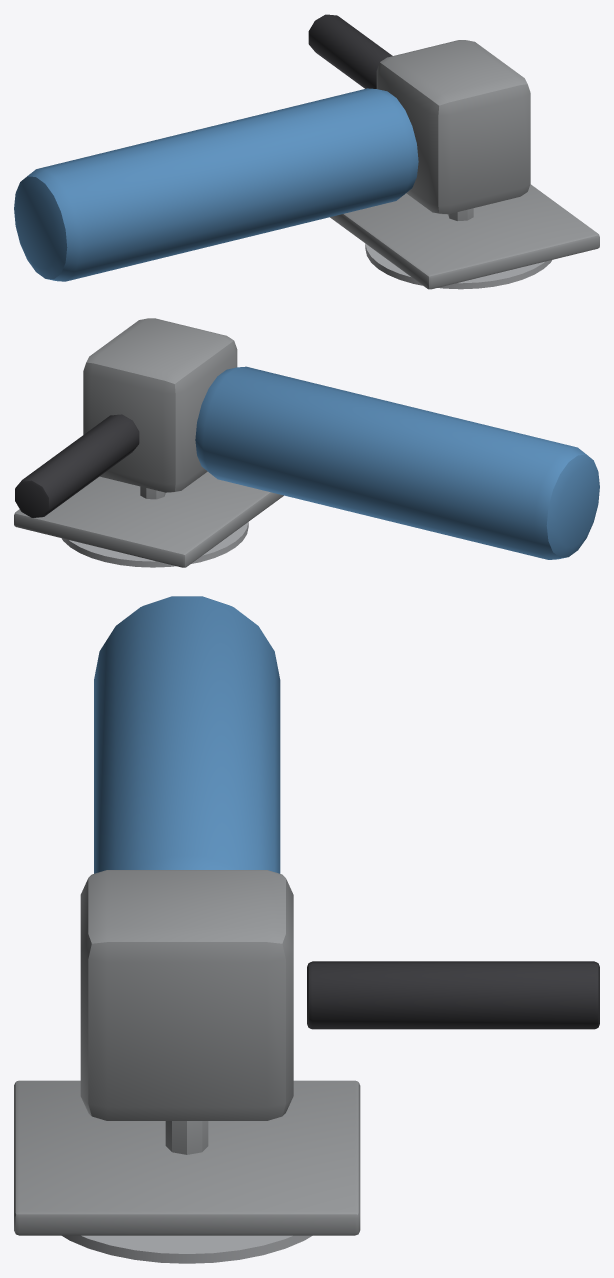
File: EQP-PEQ-005_anim.glb
3 views of the same model, one above another, from view 1: azimuth 30°, elevation 25°; view 2: azimuth 150°, elevation 25°; view 3: azimuth 270°, elevation 25° (orthographic). The views are drawn at different scales.
Parts seen in each view (by area): view 1: EQP-PEQ-005_anim1, EQP-PEQ-005_anim0; view 2: EQP-PEQ-005_anim1, EQP-PEQ-005_anim0; view 3: EQP-PEQ-005_anim1, EQP-PEQ-005_anim0.
Boxes of the visible parts, x1=… form: EQP-PEQ-005_anim1: x1=14, y1=14, x2=599, y2=289; EQP-PEQ-005_anim0: x1=365, y1=208, x2=551, y2=289; EQP-PEQ-005_anim1: x1=14, y1=318, x2=599, y2=567; EQP-PEQ-005_anim0: x1=61, y1=486, x2=248, y2=567; EQP-PEQ-005_anim1: x1=14, y1=596, x2=599, y2=1235; EQP-PEQ-005_anim0: x1=62, y1=1121, x2=312, y2=1263.
Size of the model in its own units: 0.355 by 0.122 by 0.22.
